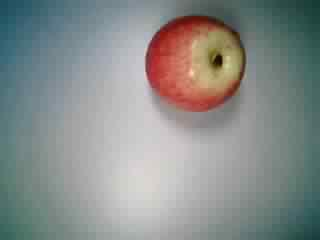apple: (139, 11, 246, 115)
